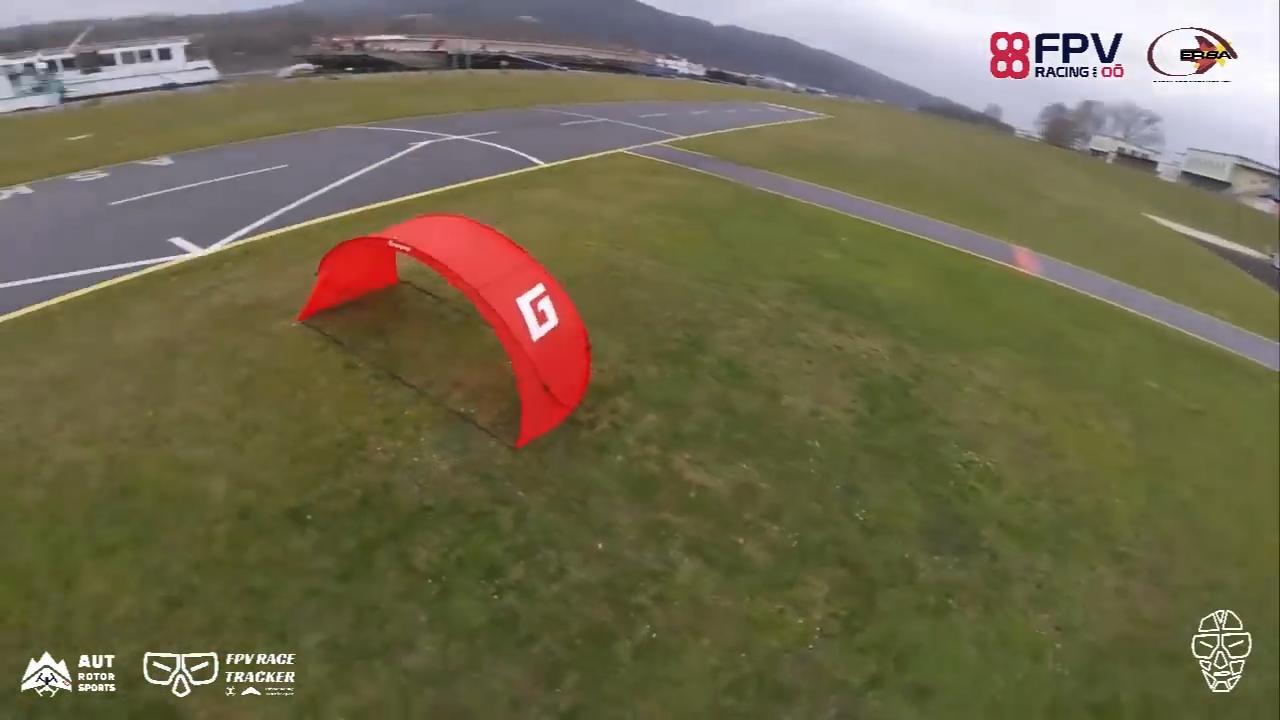gate: (287, 213, 591, 450)
